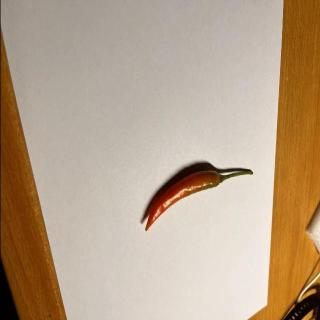Cabai Merah: (145, 170, 254, 232)
